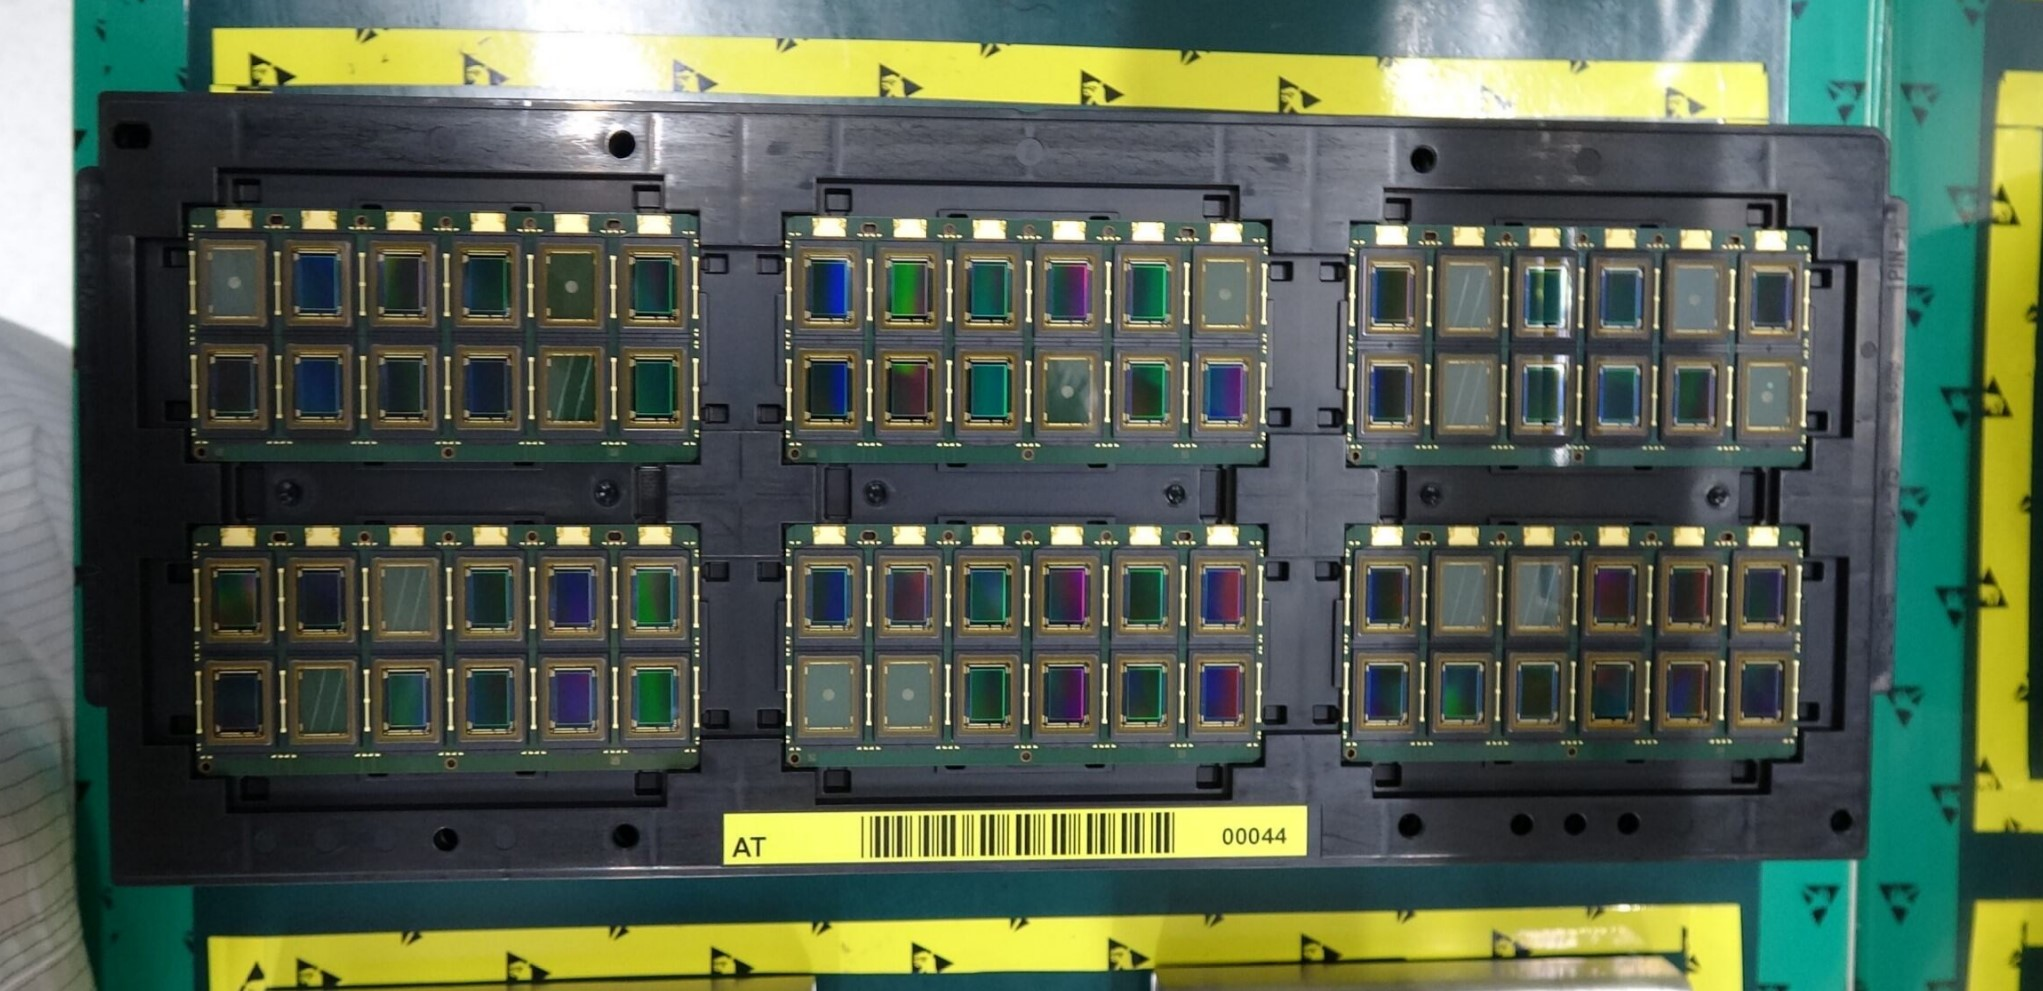Bad_mark_from_BMS_mold: (366, 557, 443, 643), (287, 659, 360, 745), (536, 345, 606, 432), (1431, 352, 1502, 435), (1435, 253, 1504, 336), (1431, 552, 1494, 635), (1507, 555, 1570, 635)
Bad_mark_from_Maker: (532, 240, 605, 329), (195, 238, 268, 326), (872, 655, 942, 741), (793, 655, 863, 741), (1191, 249, 1259, 333), (1663, 257, 1732, 339), (1736, 356, 1805, 438), (1035, 352, 1102, 431)
